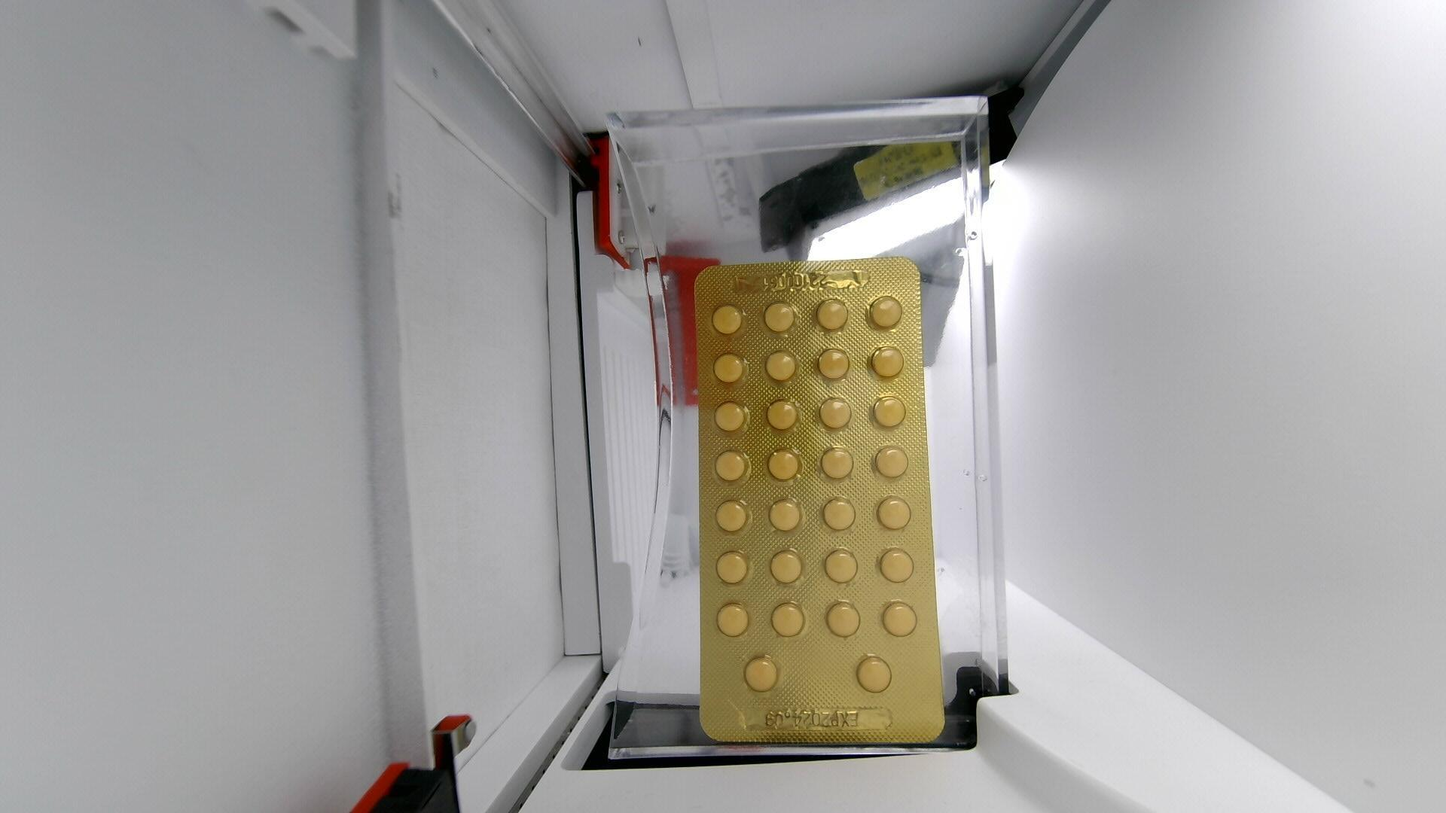Light Front: (697, 257, 943, 742)
Pill Front: (856, 655, 891, 693), (878, 547, 913, 582), (882, 601, 917, 636), (770, 601, 804, 636), (820, 447, 856, 480), (826, 601, 859, 637), (822, 497, 856, 531), (877, 496, 911, 530), (868, 296, 903, 329), (824, 548, 857, 583), (716, 602, 749, 637), (745, 656, 777, 692), (815, 299, 849, 332), (869, 347, 904, 378), (875, 446, 908, 478), (716, 500, 749, 532), (770, 550, 802, 583), (764, 302, 798, 333), (767, 449, 801, 480), (717, 551, 749, 583), (817, 348, 850, 379), (765, 351, 797, 382), (819, 397, 851, 428), (770, 498, 801, 530), (874, 396, 907, 426), (715, 451, 748, 481), (715, 402, 749, 431), (767, 400, 798, 431), (713, 355, 746, 382), (712, 306, 744, 333)
